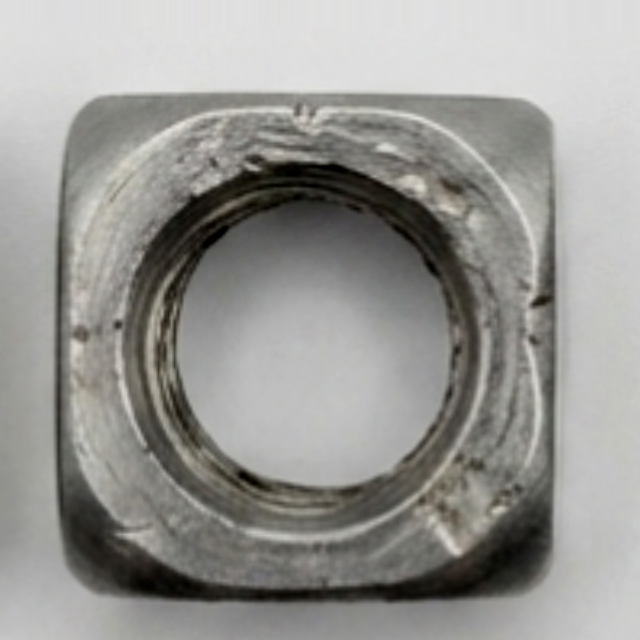defect: (163, 104, 429, 233), (376, 450, 541, 540), (518, 241, 568, 447), (69, 312, 132, 344)
